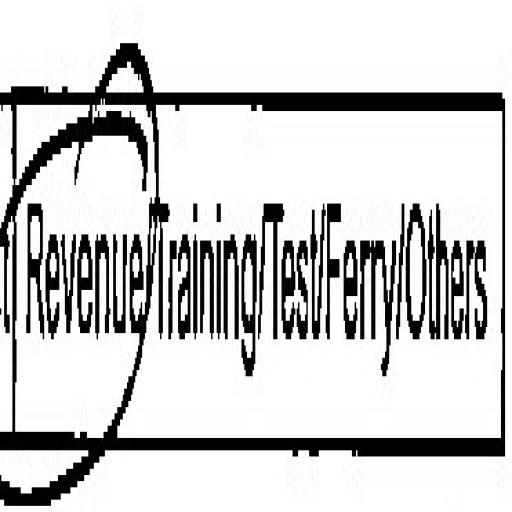check: (8, 0, 148, 512)
